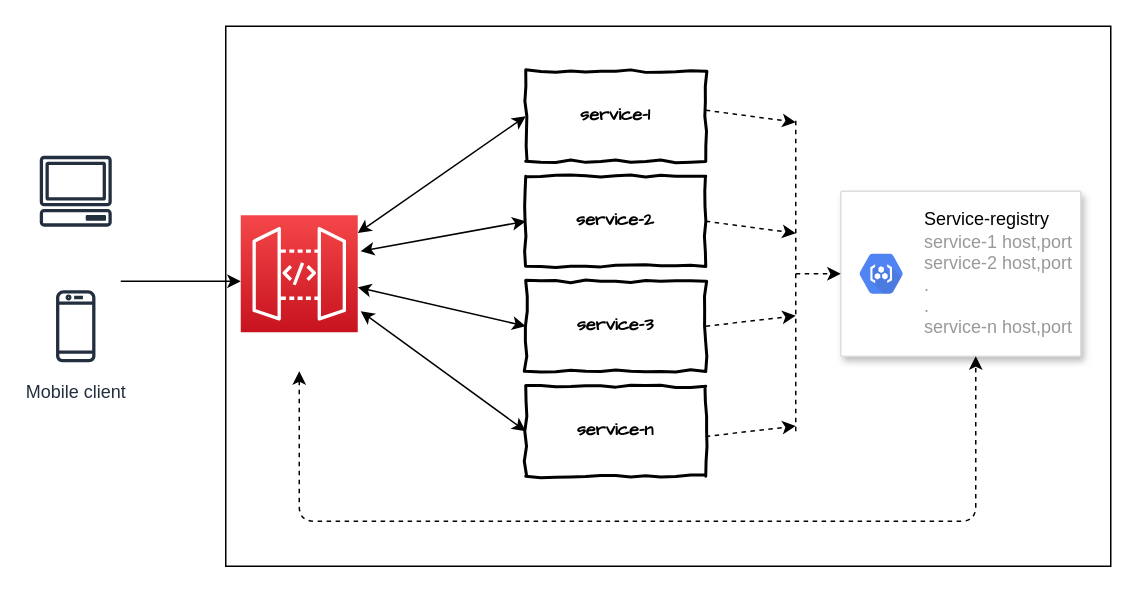
The diagram is 1137 pixels wide and 593 high, and some of its shapes have lost their labels. Each missing label, with the centre of its shape:
"API Gateway" belongs at pixel 298 273.
"Browser" belongs at pixel 75 190.
